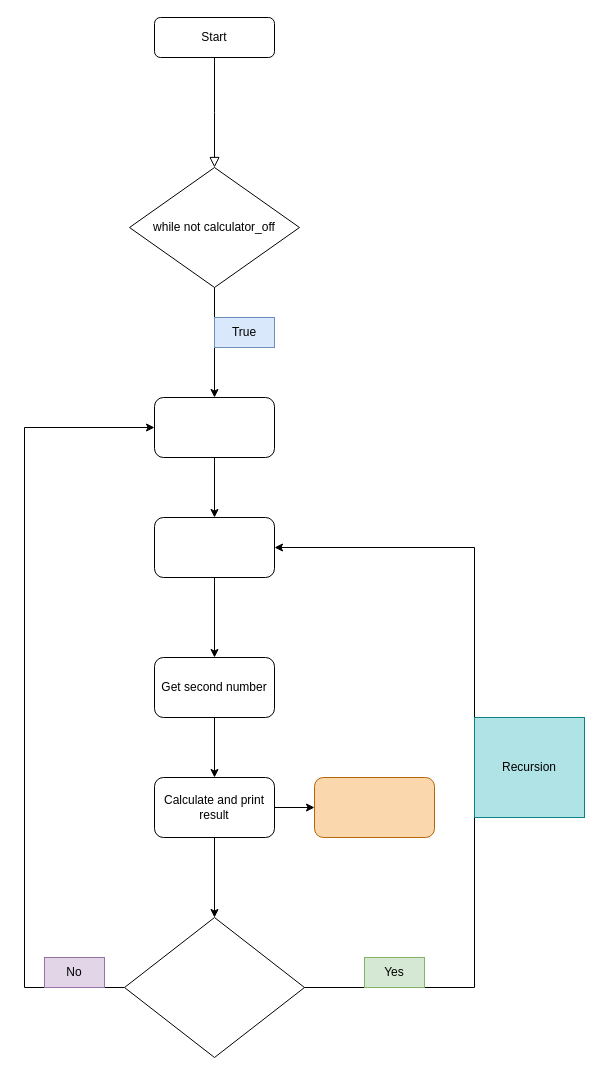
Image size: 602x1075. Some labels were removed from this diagram. Here are the shapes that lost their labels. From the top down, the centre of each, then its label:
At pixel 214 427: "Get first number".
At pixel 214 547: "Get operator".
At pixel 374 807: "Store result".
At pixel 214 987: "Continue with same number?".
